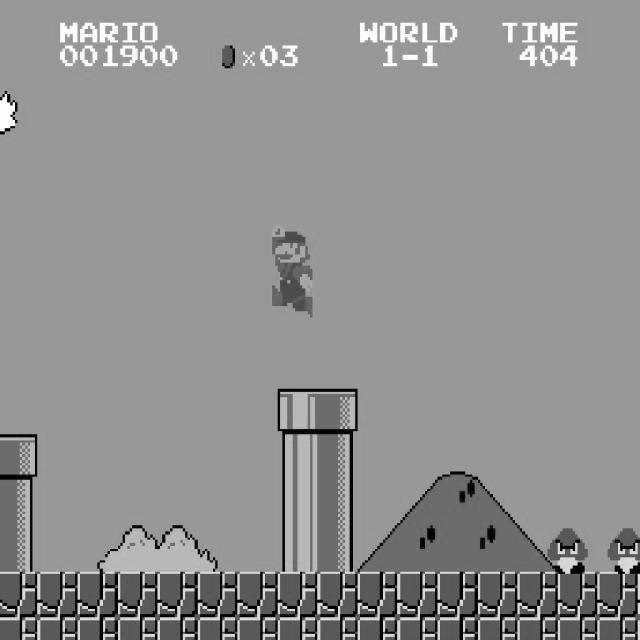0- big_mario: (270, 223, 312, 317)
14- pipe: (277, 434, 318, 480), (277, 480, 318, 526), (277, 526, 318, 572), (317, 434, 358, 480), (317, 480, 358, 526), (317, 526, 358, 572), (0, 480, 37, 526), (0, 526, 37, 572)
15- pipe_head: (277, 388, 318, 434), (317, 388, 358, 434), (0, 434, 37, 480)
17- undestructible_block: (37, 572, 78, 618), (77, 572, 118, 618), (117, 572, 158, 618), (157, 572, 198, 618), (197, 572, 238, 618), (237, 572, 278, 618), (277, 572, 318, 618), (317, 572, 358, 618), (357, 572, 398, 618), (397, 572, 438, 618), (437, 572, 478, 618), (477, 572, 518, 618), (517, 572, 558, 618), (557, 572, 598, 618), (597, 572, 638, 618), (0, 572, 37, 618), (37, 617, 78, 640), (77, 617, 118, 640), (117, 617, 158, 640), (157, 617, 198, 640), (197, 617, 238, 640), (237, 617, 278, 640), (277, 617, 318, 640), (317, 617, 358, 640), (357, 617, 398, 640), (397, 617, 438, 640), (437, 617, 478, 640), (477, 617, 518, 640), (517, 617, 558, 640), (557, 617, 598, 640), (597, 617, 638, 640), (0, 617, 37, 640), (637, 571, 640, 617), (637, 617, 640, 639)
8- goomba: (545, 526, 588, 574), (605, 526, 640, 574)
